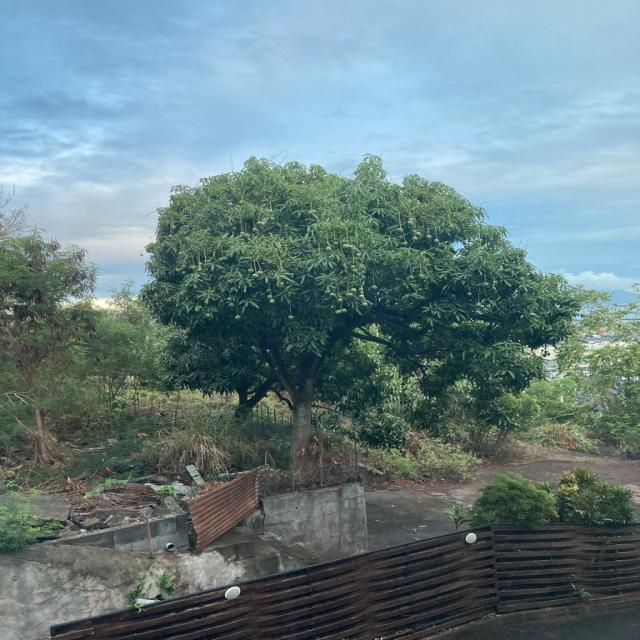Mango-Tree: (128, 161, 560, 455)
